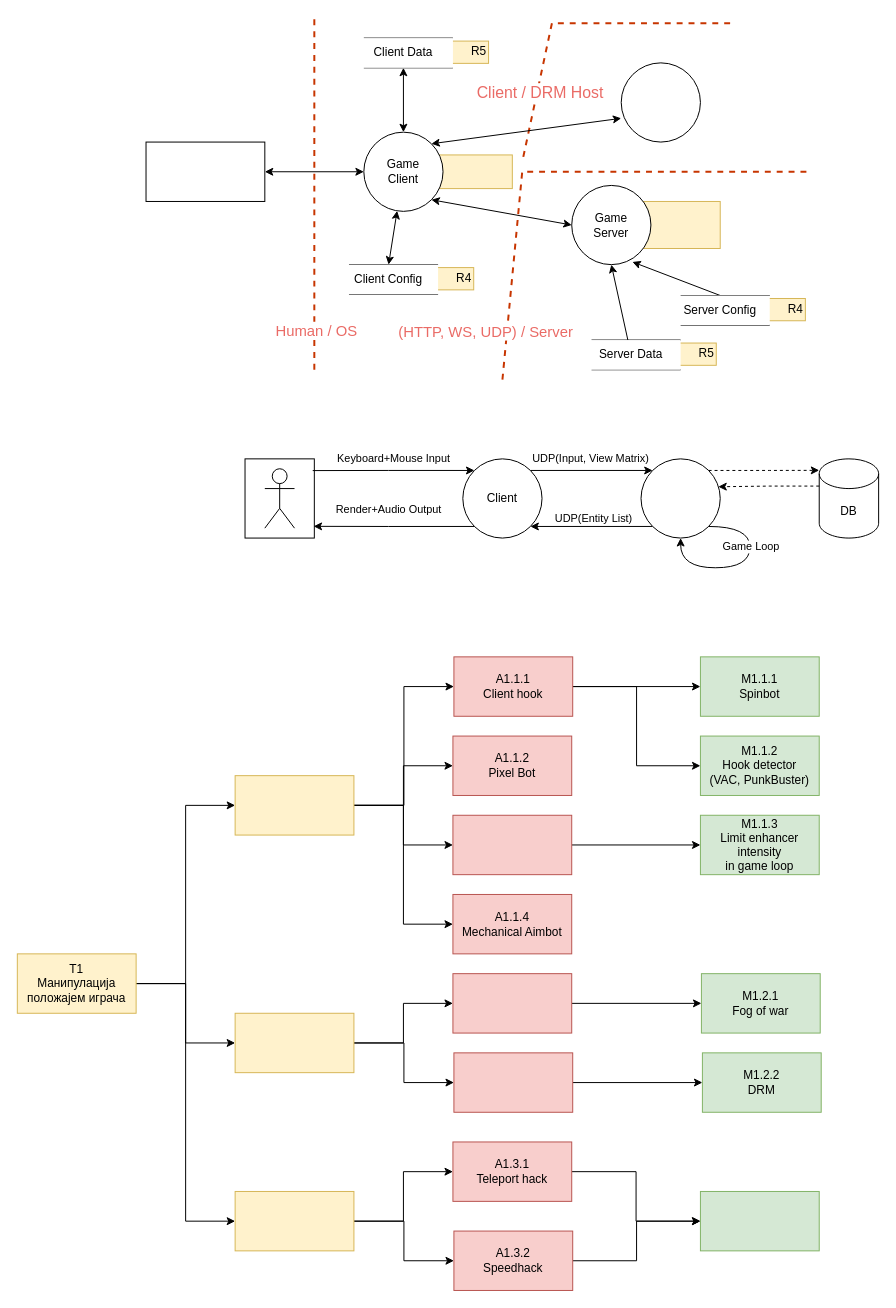
Image size: 896x1308. Some labels were removed from this diagram. Here are the shapes that lost their labels. From the top down, the centre of each, then its label:
At (x=660, y=102): "DRM Server".
At (x=205, y=171): "Player".
At (x=467, y=171): "R1, R2, R3".
At (x=675, y=224): "R1, R2, R3 R4".
At (x=680, y=498): "Server".
At (x=294, y=805): "T1.1 Aimbot".
At (x=512, y=844): "A1.1.3 Aim Assist Enhancer".
At (x=512, y=1003): "A1.2.1 Wallhack".
At (x=294, y=1042): "T1.2 ESP".
At (x=513, y=1082): "A1.2.2 Content hack".
At (x=294, y=1220): "T1.3 Modify player position".
At (x=759, y=1220): "M1.3.1 DTLS, валидација апликативног протокола".
